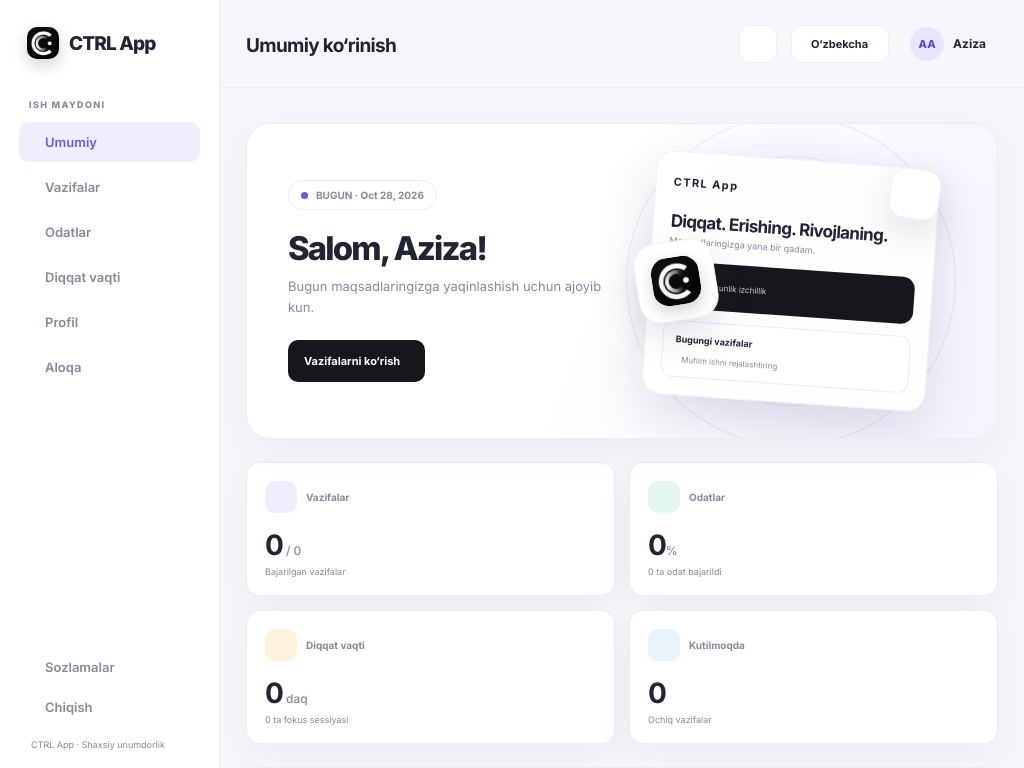
Scenario: profile changes update Firebase Auth and the user document
Click the button "Profil": (110, 322) x1=19 y1=302 x2=200 y2=342
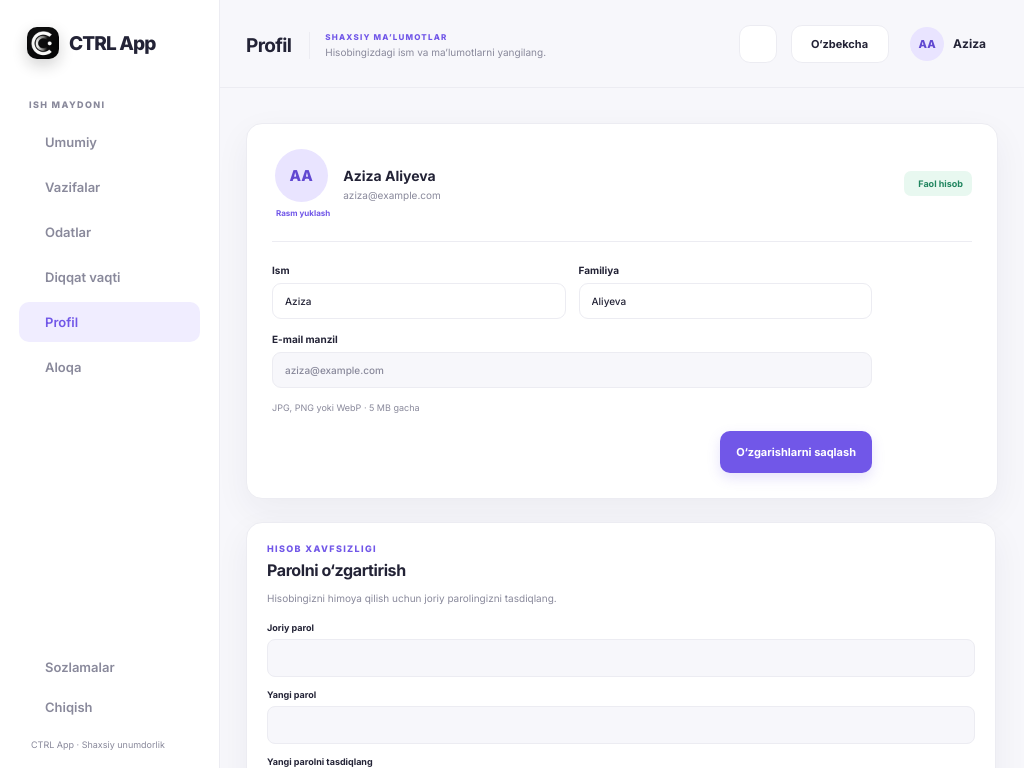
Replace the text in the field labelled "Ism" with "Aziza2": (419, 301) x1=272 y1=283 x2=566 y2=319
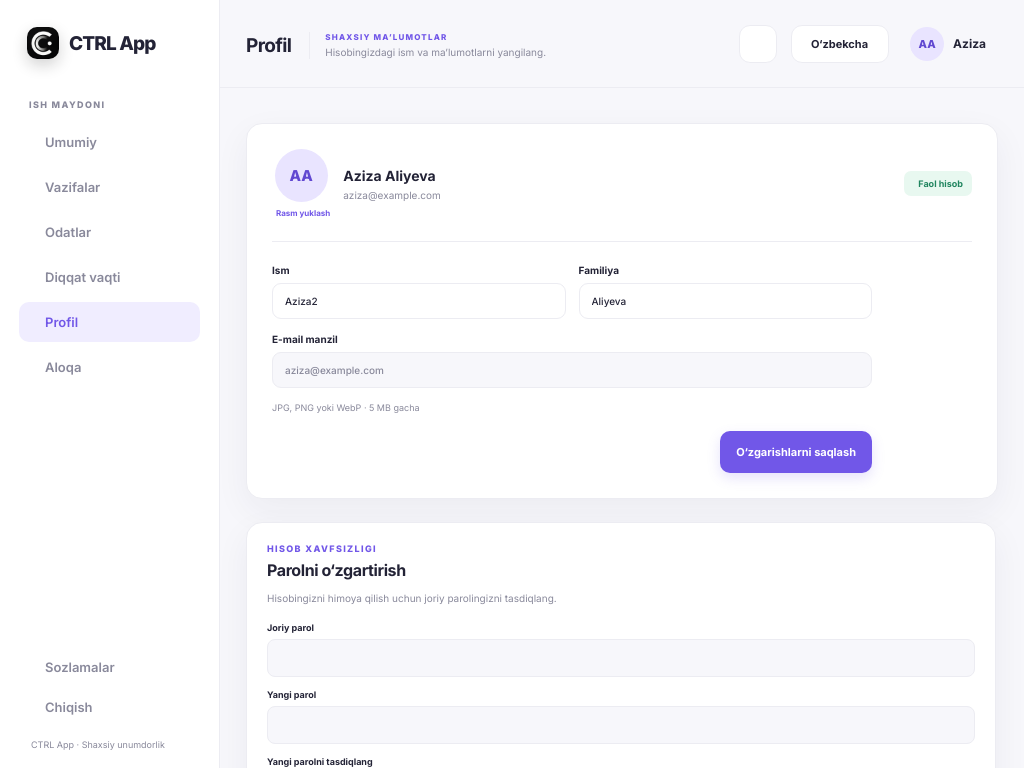
Click the button "O‘zgarishlarni saqlash": (796, 452) x1=720 y1=431 x2=872 y2=473
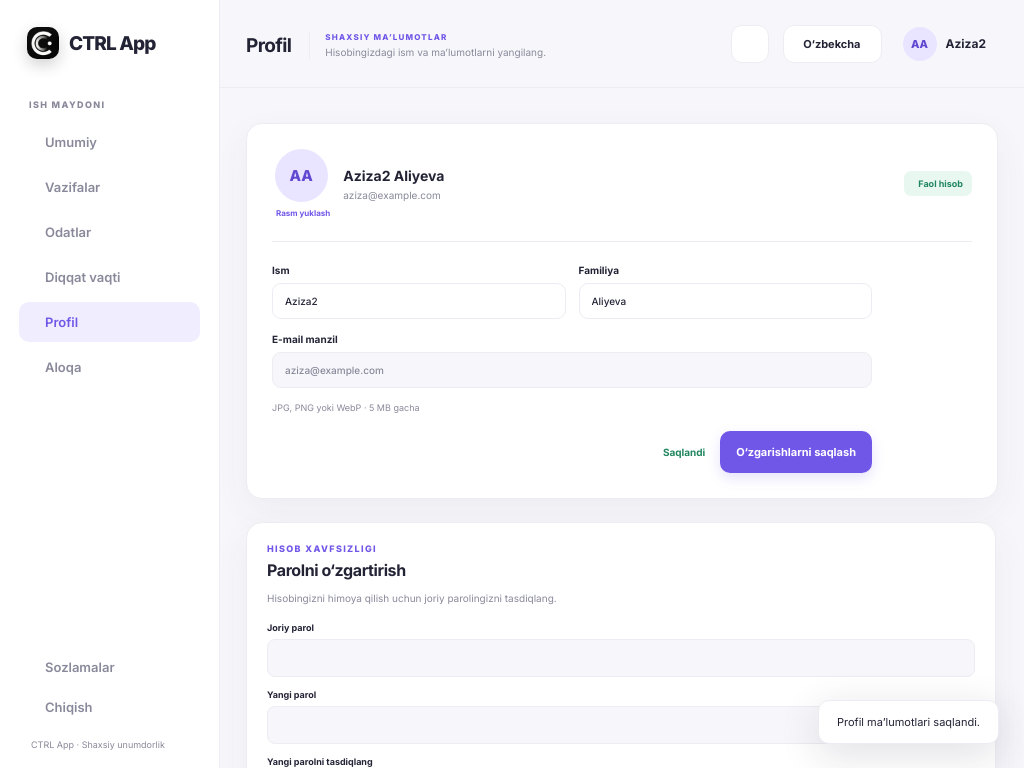
Check: the text "Saqlandi" is shown, box x1=663 y1=446 x2=705 y2=458
